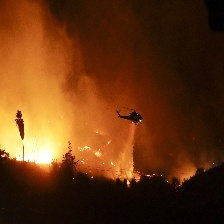fire: (16, 132, 64, 167), (77, 142, 108, 166)
smoke: (3, 4, 146, 126)
